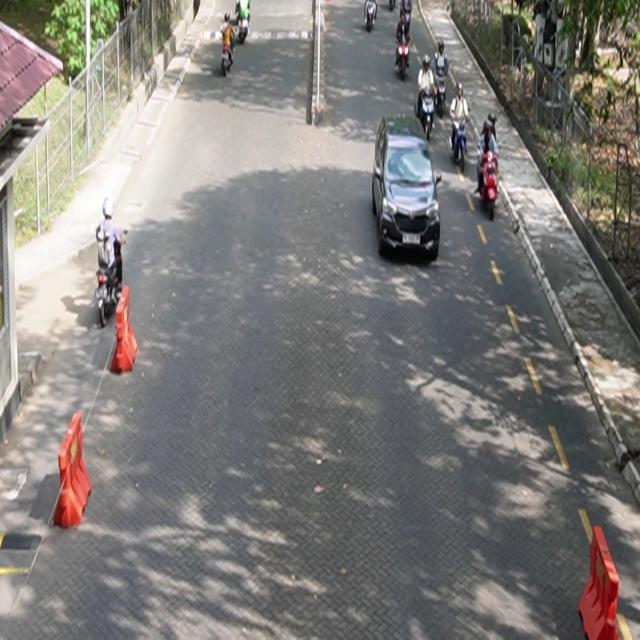car: (372, 116, 443, 262)
